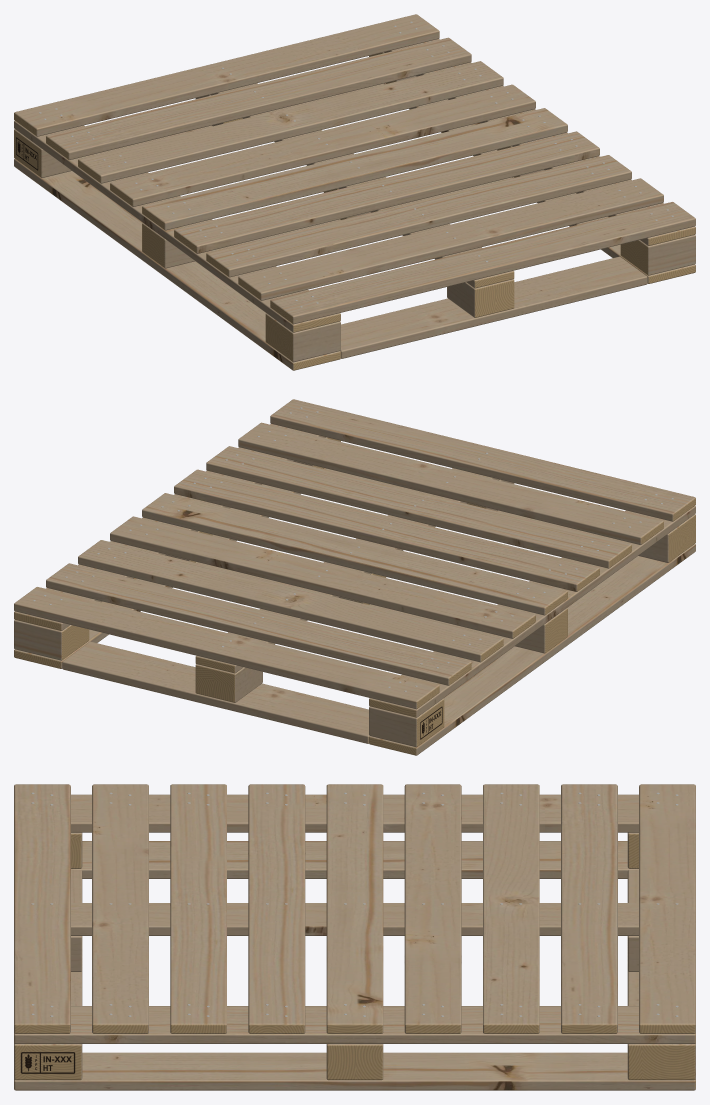
File: pw02-pinewood-pallet-1000x1200.glb
The picture shows the model from 3 angles, top to bottom: view 1: azimuth 30°, elevation 25°; view 2: azimuth 150°, elevation 25°; view 3: azimuth 270°, elevation 25°; orthographic projection. The views are drawn at different scales.
Parts seen in each view (by area): view 1: pw02-pinewood-pallet-1000x1200; view 2: pw02-pinewood-pallet-1000x1200; view 3: pw02-pinewood-pallet-1000x1200.
Part boxes in pixels (<box>): pw02-pinewood-pallet-1000x1200: <box>14,14,695,370</box>; pw02-pinewood-pallet-1000x1200: <box>14,399,695,755</box>; pw02-pinewood-pallet-1000x1200: <box>14,784,695,1090</box>.
Size of the model in its own units: 1 by 0.1309 by 1.2.
Materials: 4 (3 with a texture image).
